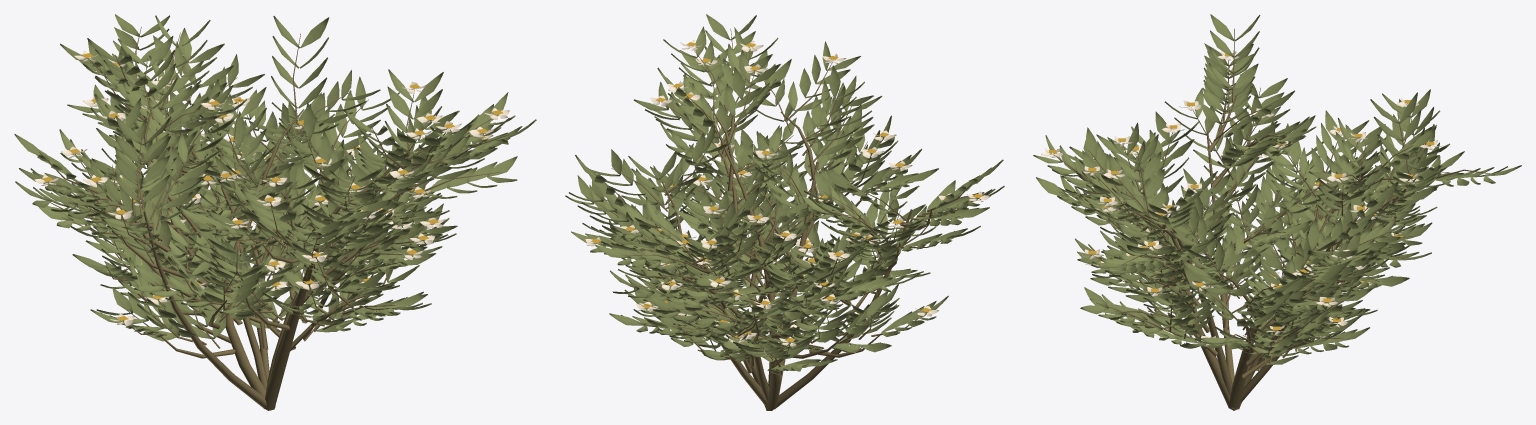
The model's file is Ciste_1_High.fbx.
3 renders of one model, left to right at view 1: azimuth 30°, elevation 25°; view 2: azimuth 150°, elevation 25°; view 3: azimuth 270°, elevation 25°, orthographic. The views are drawn at different scales.
Visible parts, largest first — view 1: Ciste_1_High; view 2: Ciste_1_High; view 3: Ciste_1_High.
Boxes of the visible parts, bbox=[...] form: Ciste_1_High: bbox=[14, 14, 536, 410]; Ciste_1_High: bbox=[565, 14, 1004, 410]; Ciste_1_High: bbox=[1033, 14, 1521, 410].
Size of the model in its own units: 137 by 98.52 by 149.
